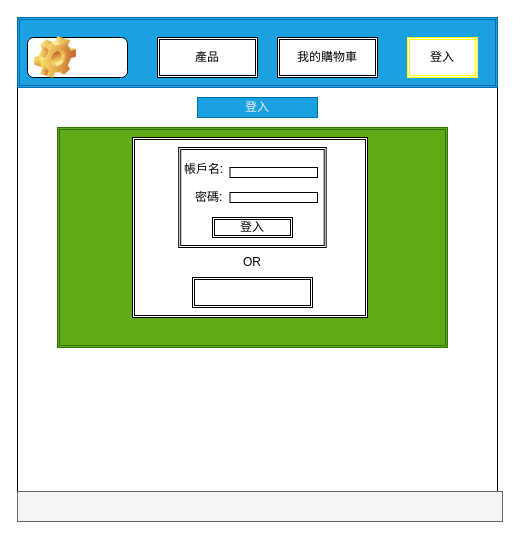
Some shapes in this 520 by 539 pixel diagram are drawn without their labels. Each missing label, with the centre of its shape:
About us | Payment Method | Shipping Policy |Terms and Conditions: (259,506)
GOOGLE登入: (252,292)
公司名: (77,57)
